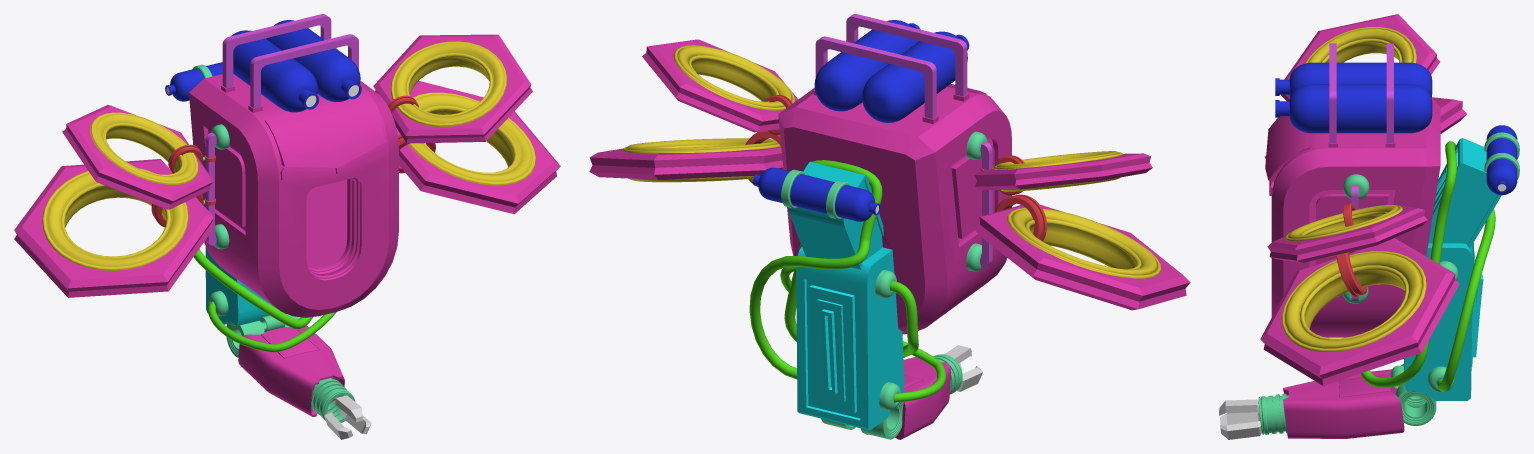
The model's file is enemy.fbx.
The picture shows the model from 3 angles, left to right: view 1: azimuth 30°, elevation 25°; view 2: azimuth 150°, elevation 25°; view 3: azimuth 270°, elevation 25°; orthographic projection. The views are drawn at different scales.
Parts seen in each view (by area): view 1: Enemy, hook; view 2: Enemy, hook; view 3: Enemy, hook.
Part boxes in pixels (x1,y1,x2,y2): Enemy: (14,14,560,422); hook: (324,395,371,439); Enemy: (589,14,1190,439); hook: (944,345,982,391); Enemy: (1258,14,1519,438); hook: (1219,399,1261,439).
Bounding box in the file's own units: 7.11 × 4.79 × 3.56.
